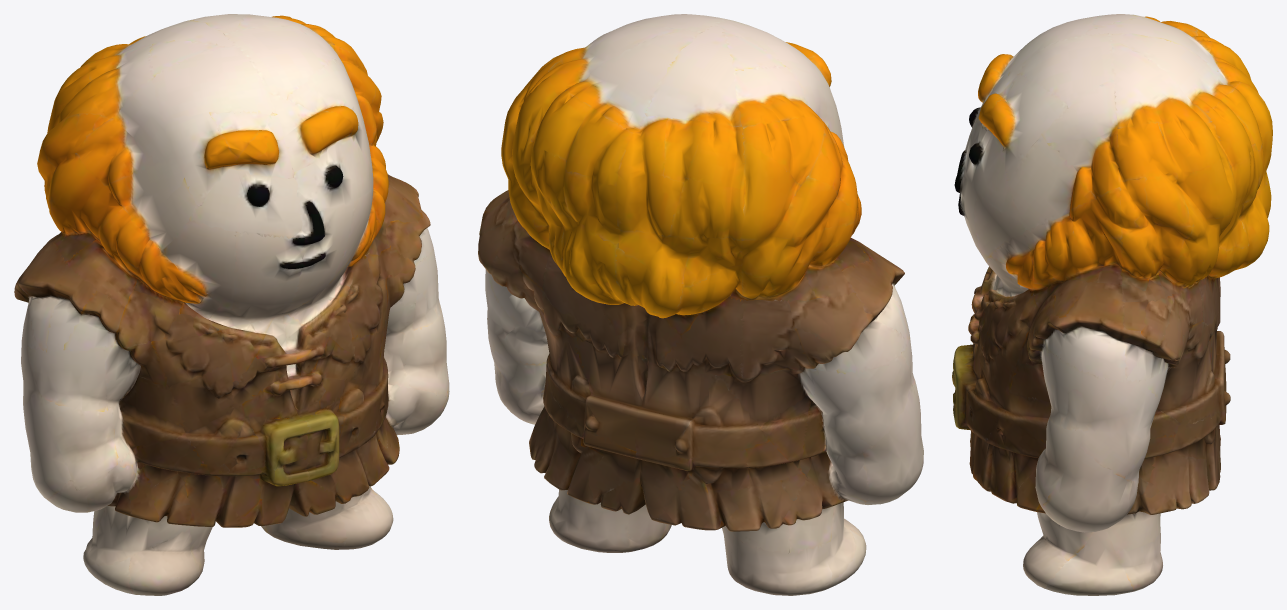
File: Gigante.glb
The picture shows the model from 3 angles, left to right: view 1: azimuth 30°, elevation 25°; view 2: azimuth 150°, elevation 25°; view 3: azimuth 270°, elevation 25°; orthographic projection. The views are drawn at different scales.
Bounding box in the file's own units: 1.59 × 1.9 × 1.11.
1 material, 1 textured.
